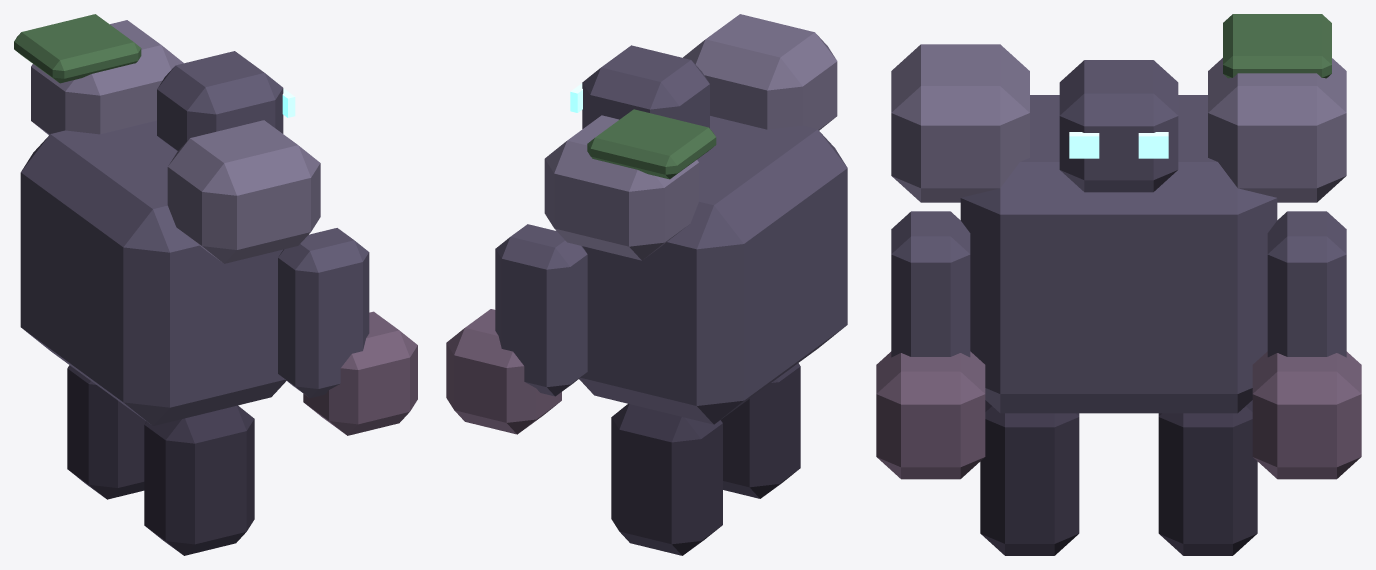
Rendered from brute.glb.
3 views of the same model, side by side, from view 1: azimuth 30°, elevation 25°; view 2: azimuth 150°, elevation 25°; view 3: azimuth 270°, elevation 25° (orthographic). The views are drawn at different scales.
Parts seen in each view (by area): view 1: brute; view 2: brute; view 3: brute.
Boxes of the visible parts, x1,y1,x2,y2 form: brute: (14,14,417,555); brute: (446,14,847,555); brute: (876,14,1361,555).
Bounding box in the file's own units: 0.68 × 1.11 × 0.98.
